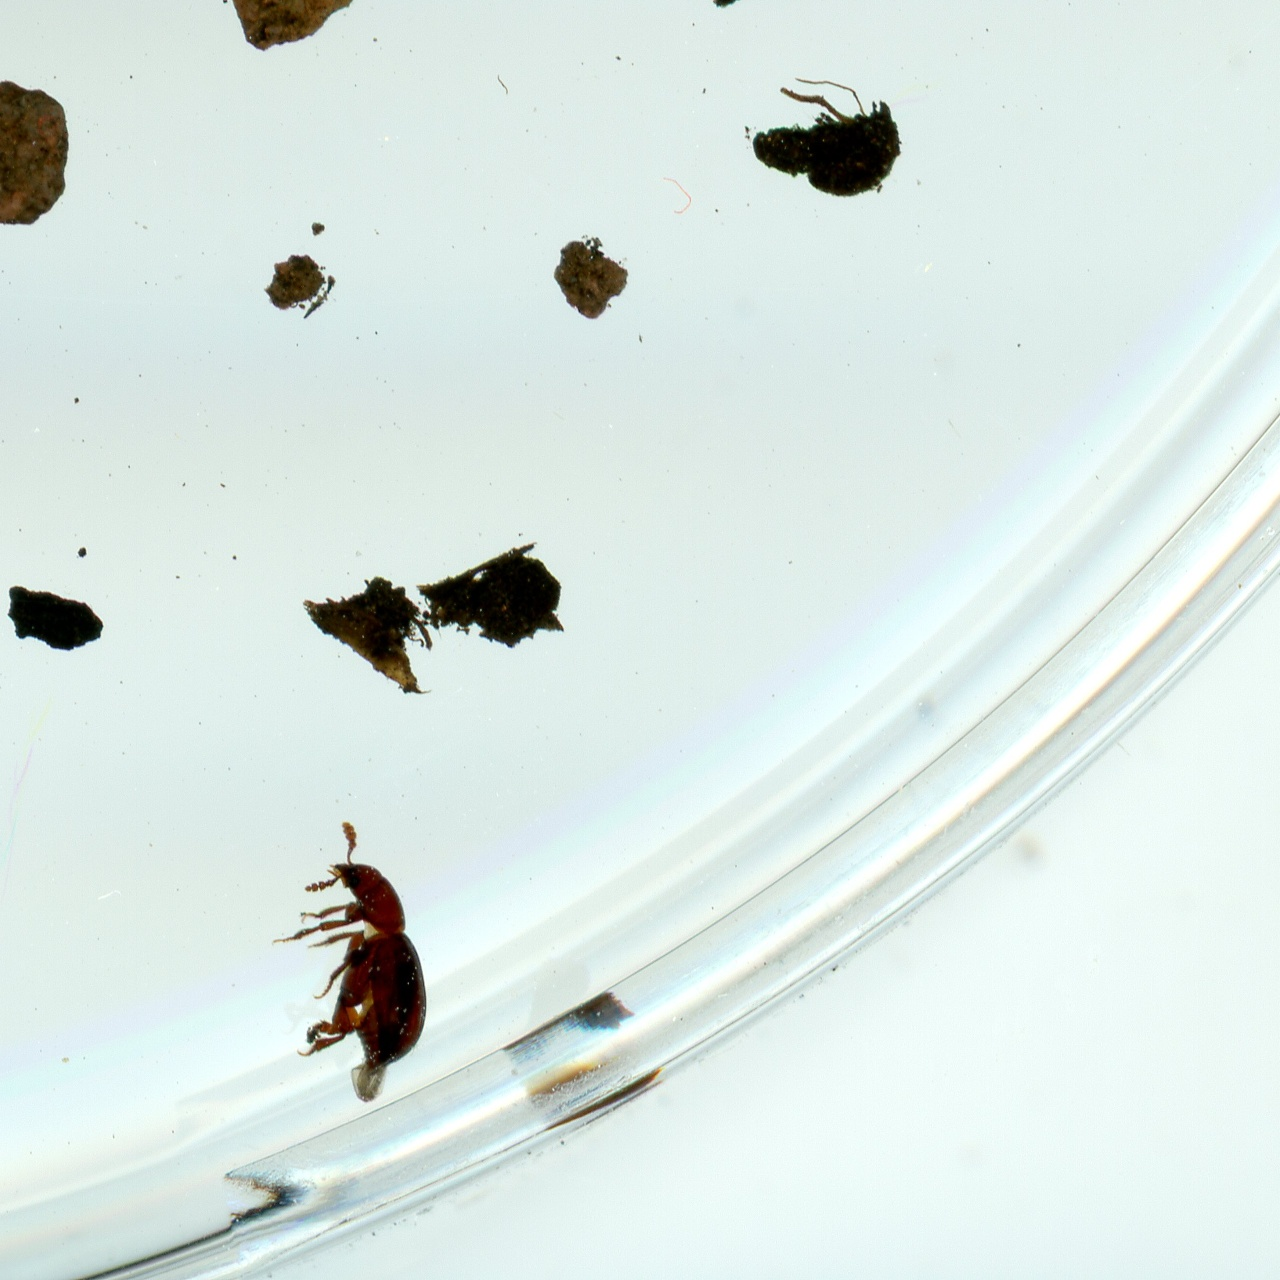arthropod: (265, 815, 429, 1078)
